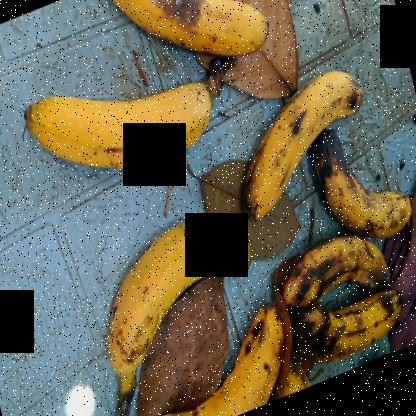freshripe: (18, 61, 221, 202)
ripe: (88, 198, 258, 372), (238, 53, 394, 226), (164, 301, 290, 416), (96, 1, 273, 61)
rotten: (309, 125, 410, 240), (269, 235, 402, 300), (299, 296, 414, 362), (148, 1, 210, 32)
